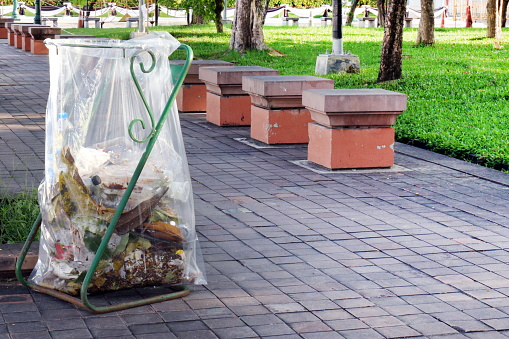plastic_bagwdw: (15, 7, 253, 319)
